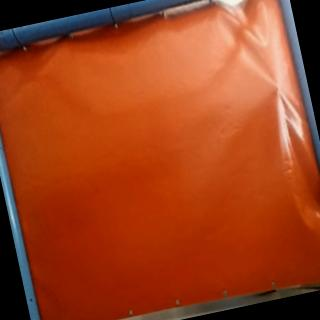Hit-hRxx: (268, 78, 286, 98)
